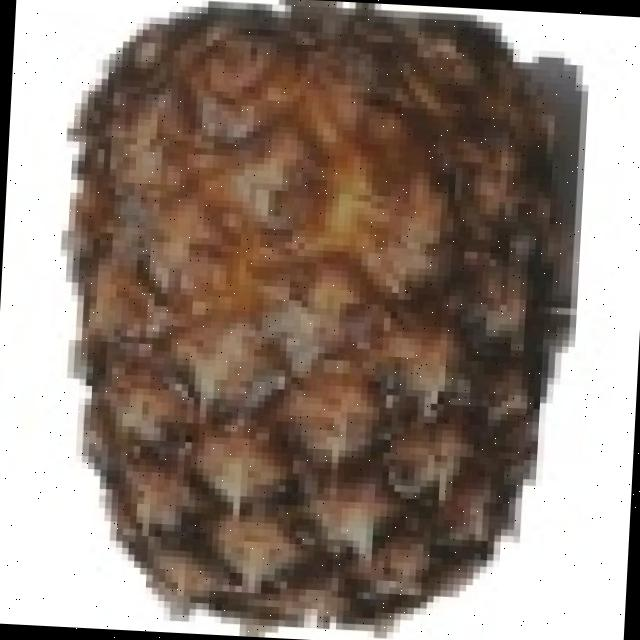pineapple: (60, 19, 568, 630)
